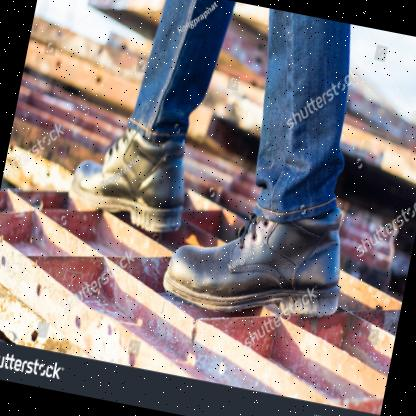bota: (157, 174, 360, 336), (62, 112, 200, 240)
